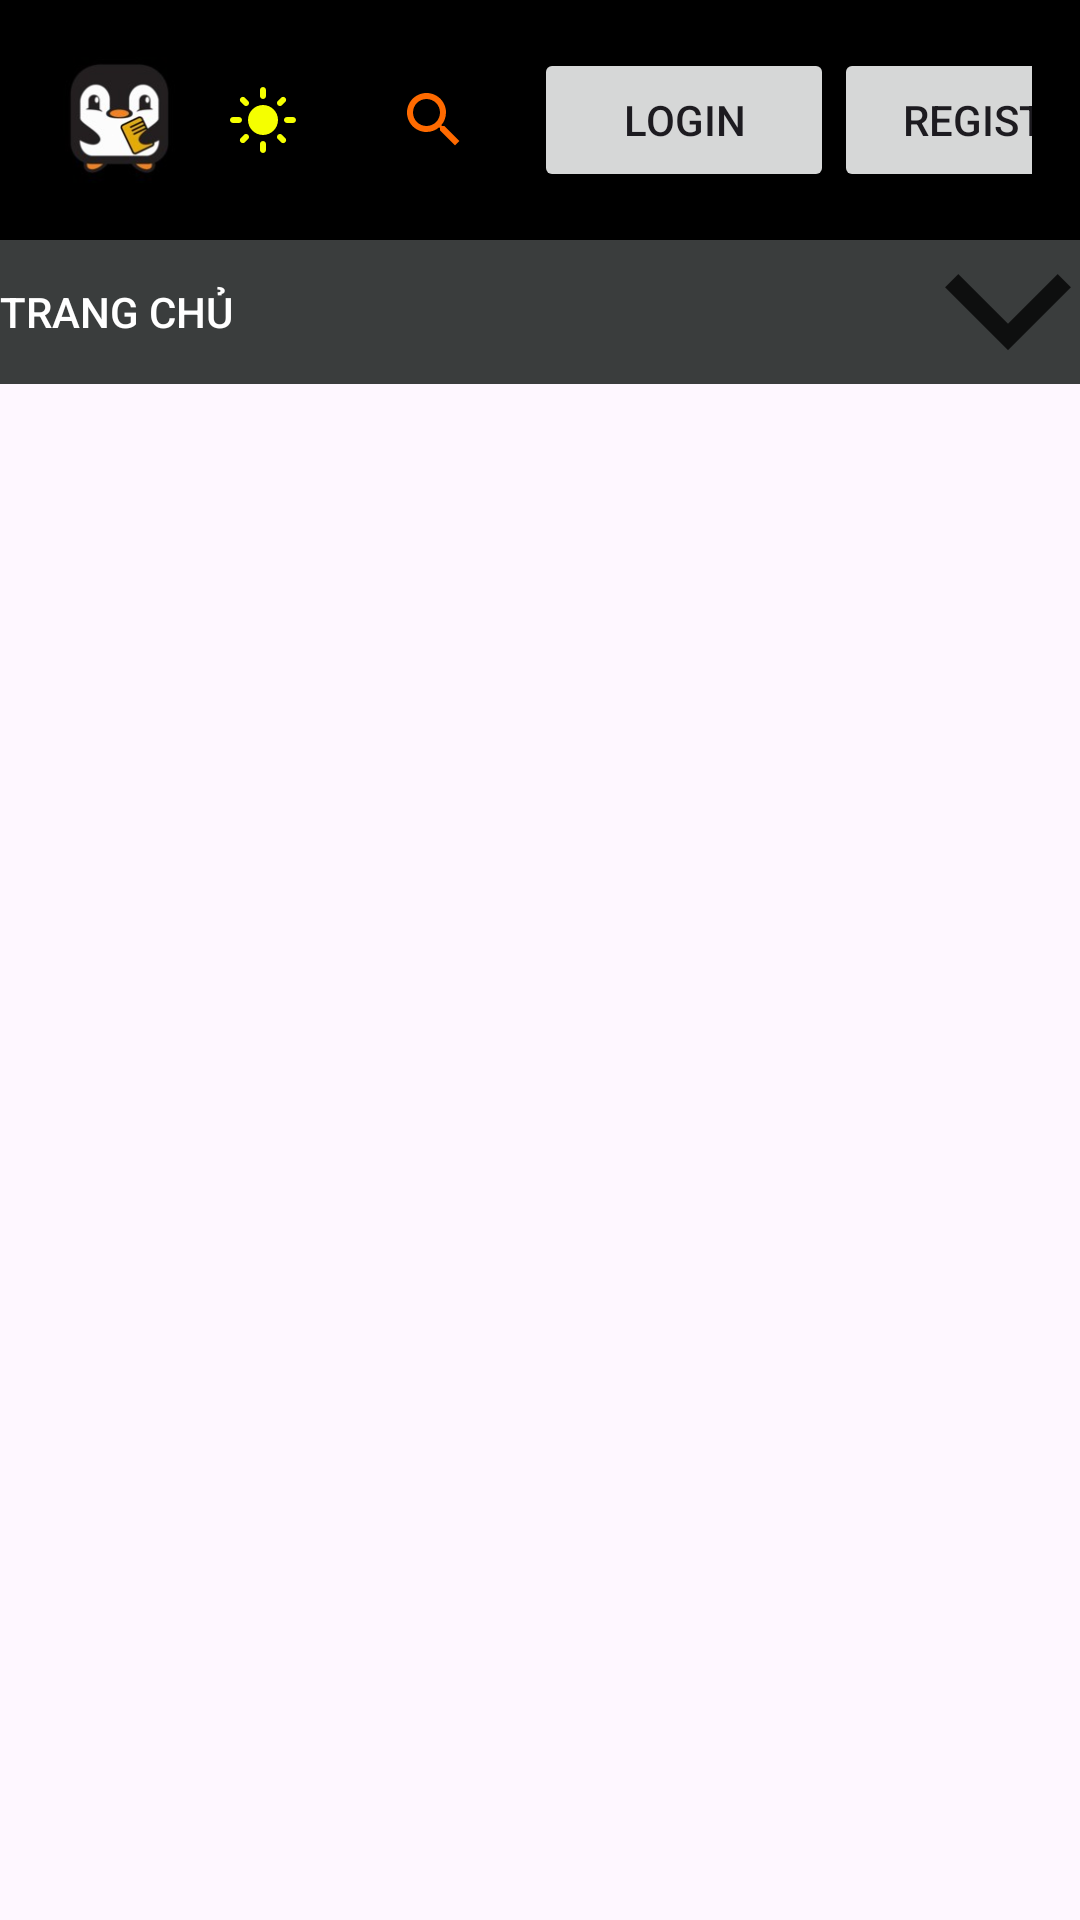

Screen size 1080px x 1920px. Icon name, then its center in pixels as point (x, y):
dropdown option: point (1008, 312)
search Comics: point (433, 119)
